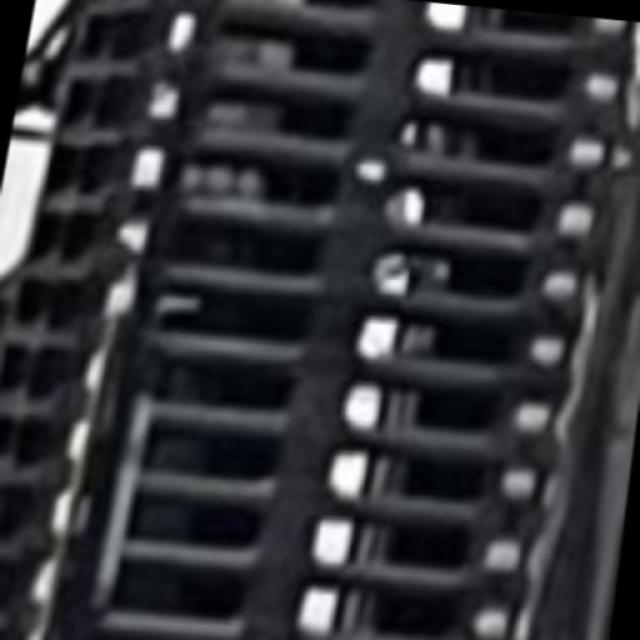igps: (137, 67, 638, 195), (113, 135, 630, 256), (119, 198, 603, 322), (123, 334, 575, 460), (131, 268, 590, 387), (92, 479, 559, 592), (185, 7, 639, 123), (106, 411, 570, 524), (65, 548, 550, 639), (410, 0, 639, 53)
